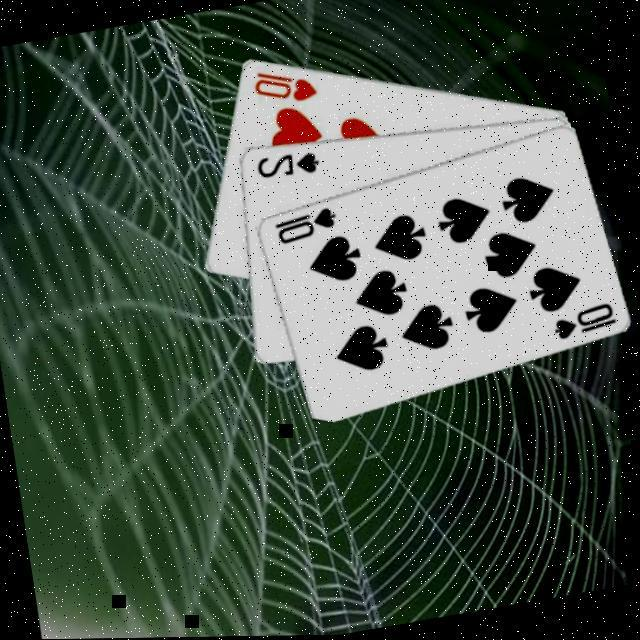10H: (247, 62, 321, 115)
10S: (268, 204, 342, 252), (546, 301, 620, 348)
2S: (251, 146, 323, 188)
